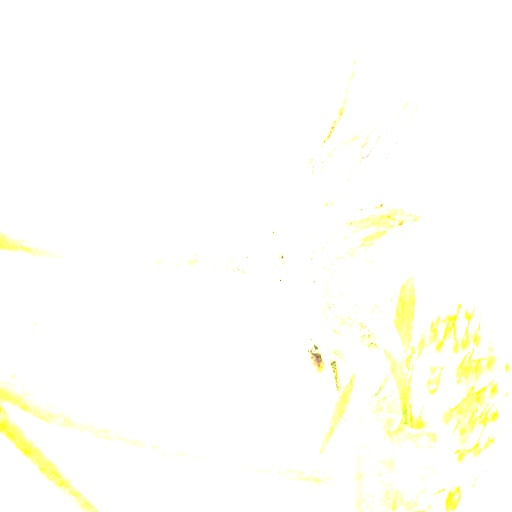Gray Mold: (171, 0, 463, 416)
